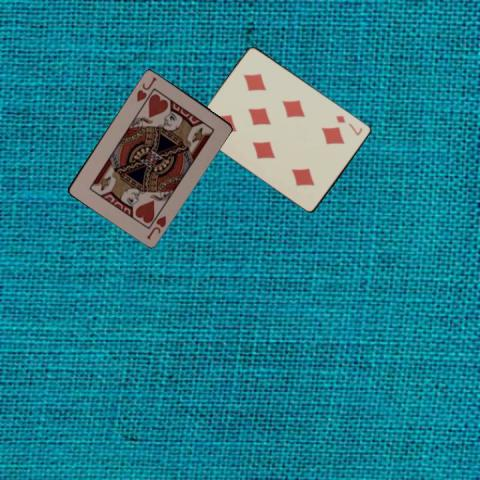7d: (333, 113, 364, 137)
Jh: (133, 73, 159, 103), (143, 212, 167, 240)
